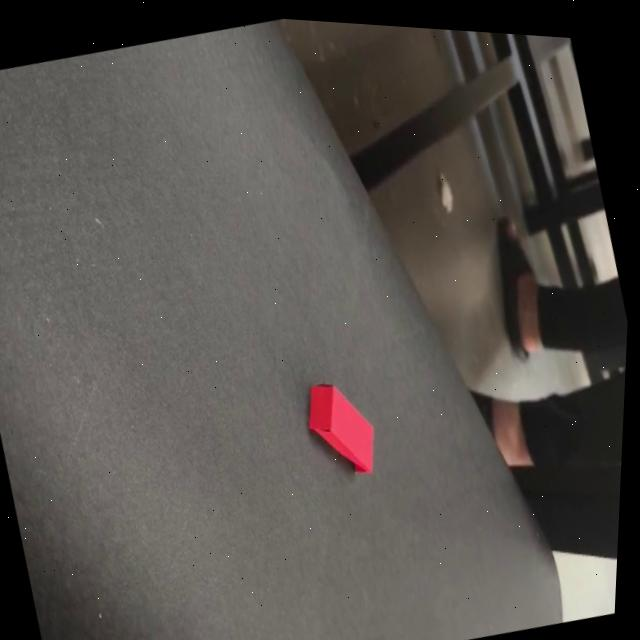red block: (296, 370, 386, 487)
